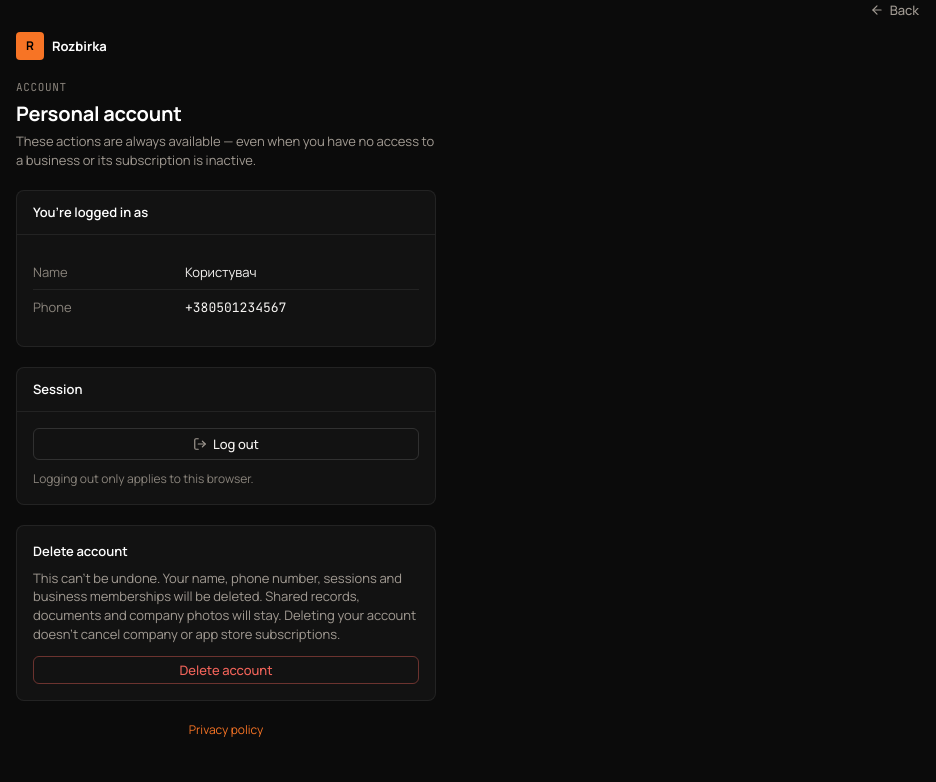
Test: speaks English (UK) and asks for an English confirmation word
This screenshot has width=936, height=782.
Expected: the heading "Personal account" is shown, [16,100,182,127]
Expected: the button "Log out" is enabled, [33,428,419,460]
Click the button "Delete account": (226, 670) [33,656,419,684]
(page scrolled)
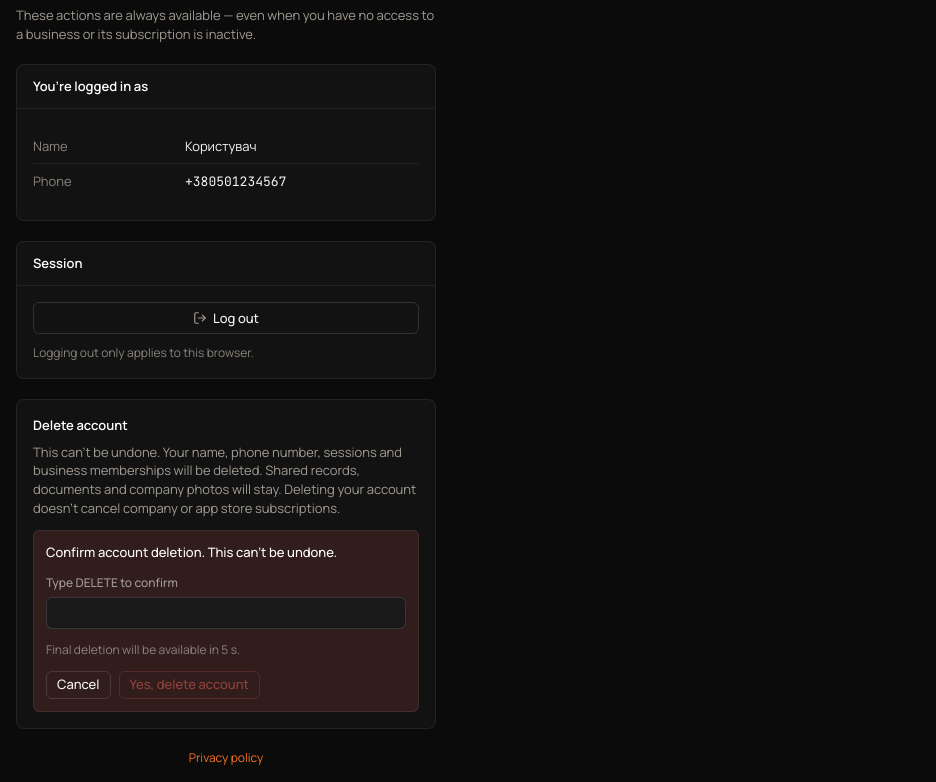
Expected: the field labelled "Type DELETE to confirm" is shown, [46,597,406,629]
Expected: the button "Cancel" is shown, [46,670,110,698]
